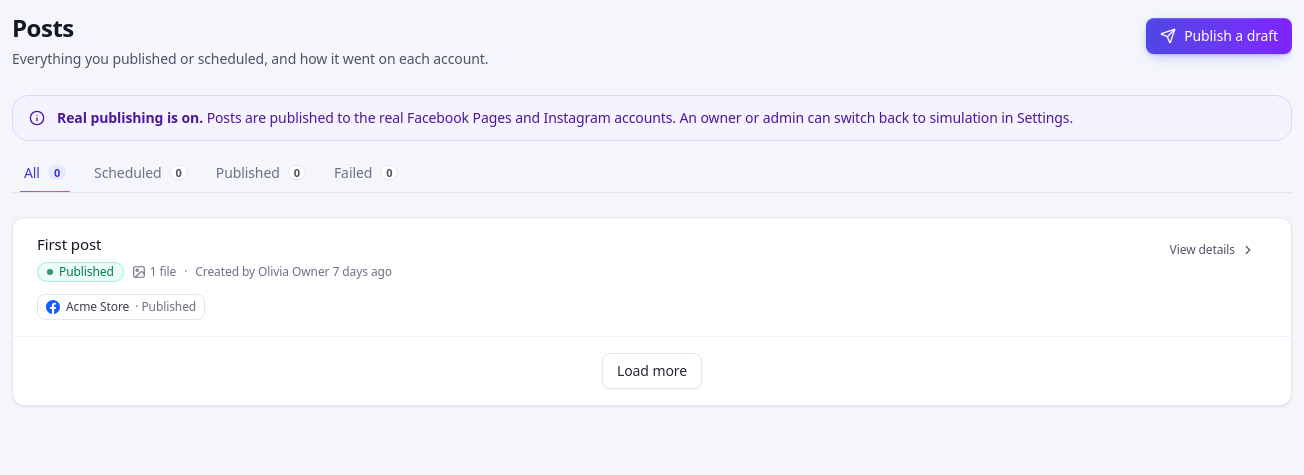
Scenario: job list › loads the next page with the cursor
Click the button "Load more": (652, 371) left=602, top=353, right=702, bottom=389
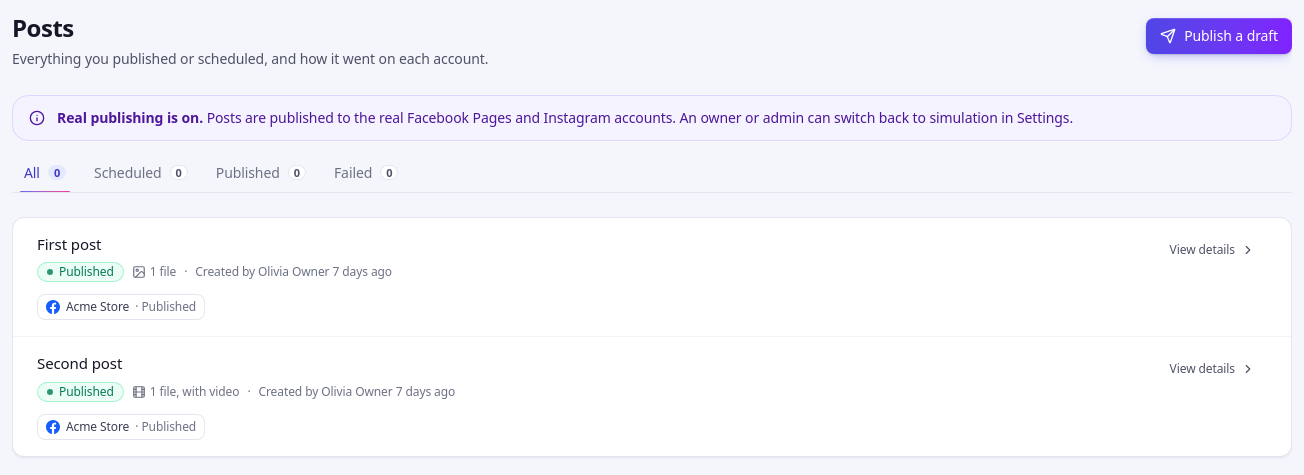
Check: the text "Second post" is shown, box left=37, top=353, right=122, bottom=373
Check: the text "1 file, with video" is shown, box left=132, top=384, right=239, bottom=400
Check: the button "Load more" is gone
